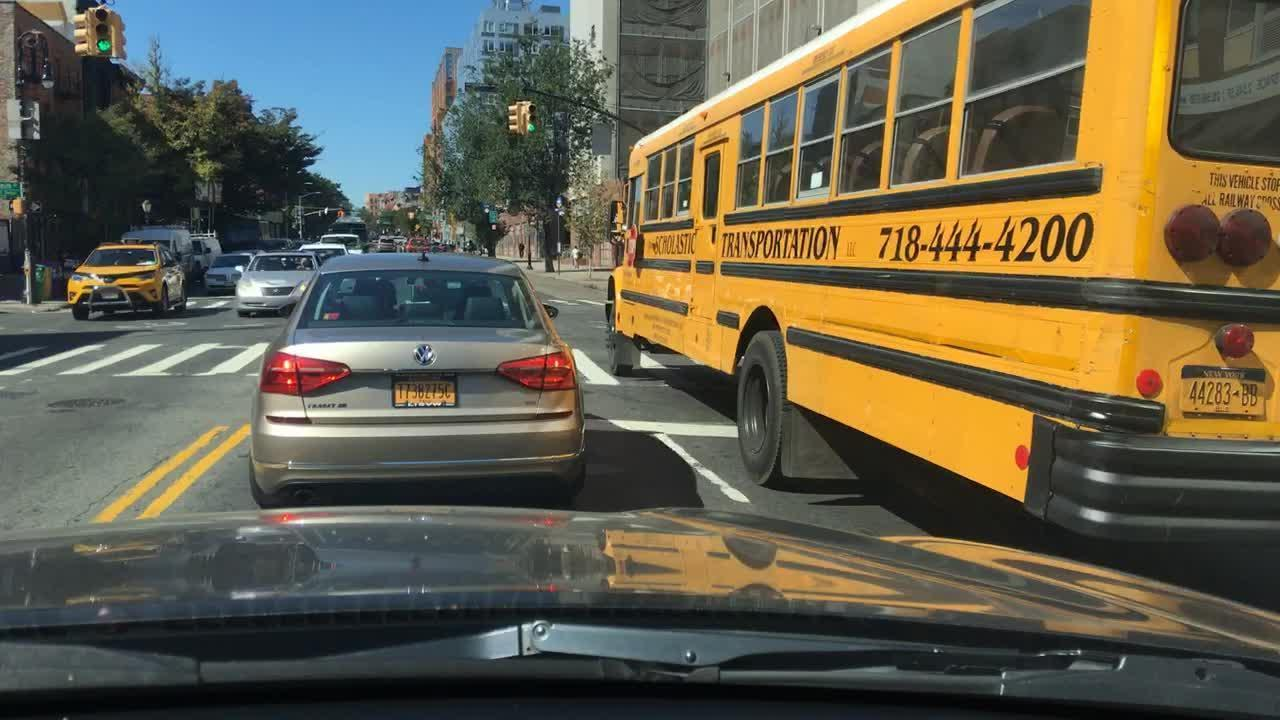Volkswagen: (407, 338, 442, 372)
